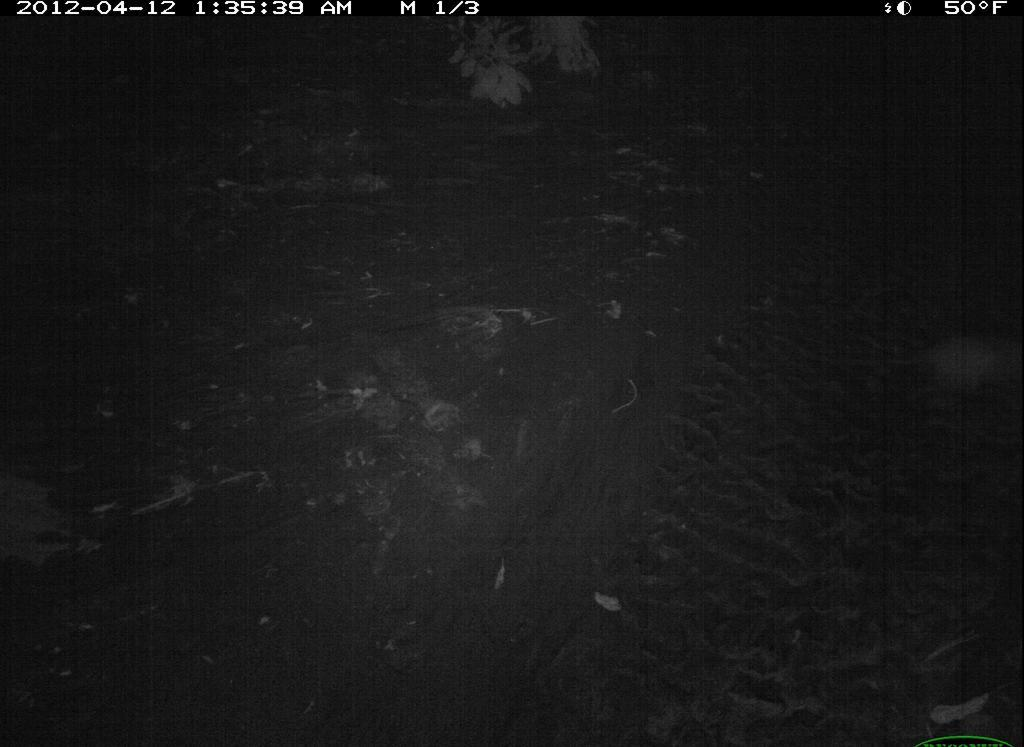opossum: (839, 309, 1023, 415)
